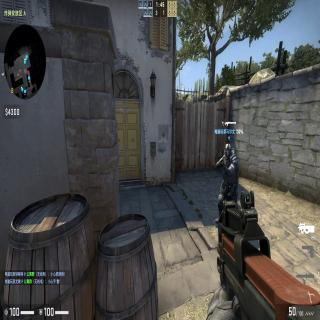CT-Body: (216, 143, 240, 198)
CT-Head: (223, 143, 232, 160)
